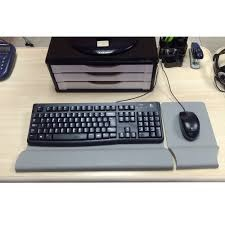keyboard: (28, 99, 164, 147)
mouse: (178, 110, 201, 140)
